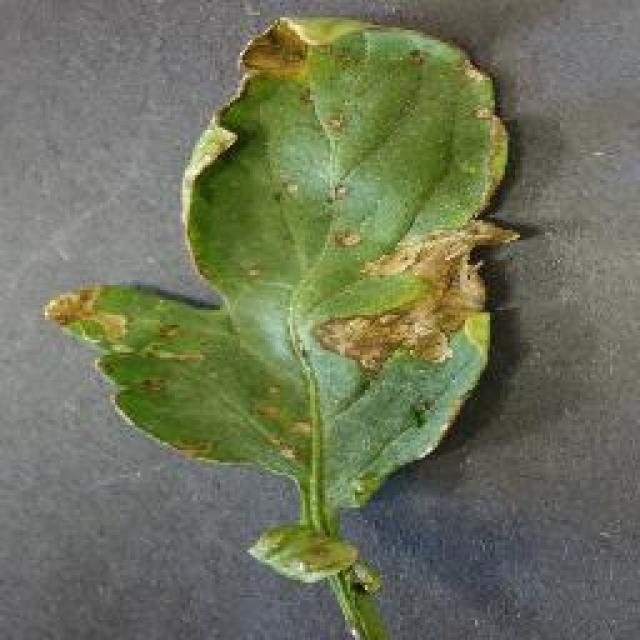Tomato bacterial spot leaf: (39, 10, 518, 507)
